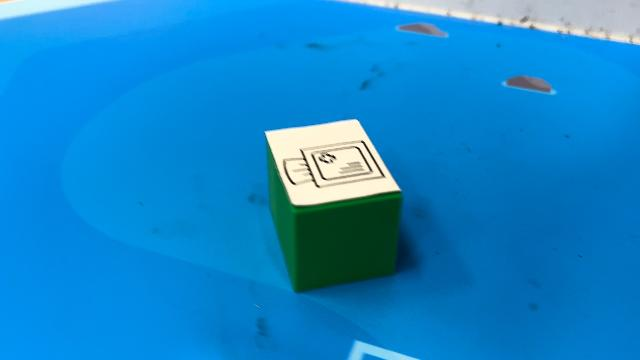napkin: (267, 115, 405, 296)
